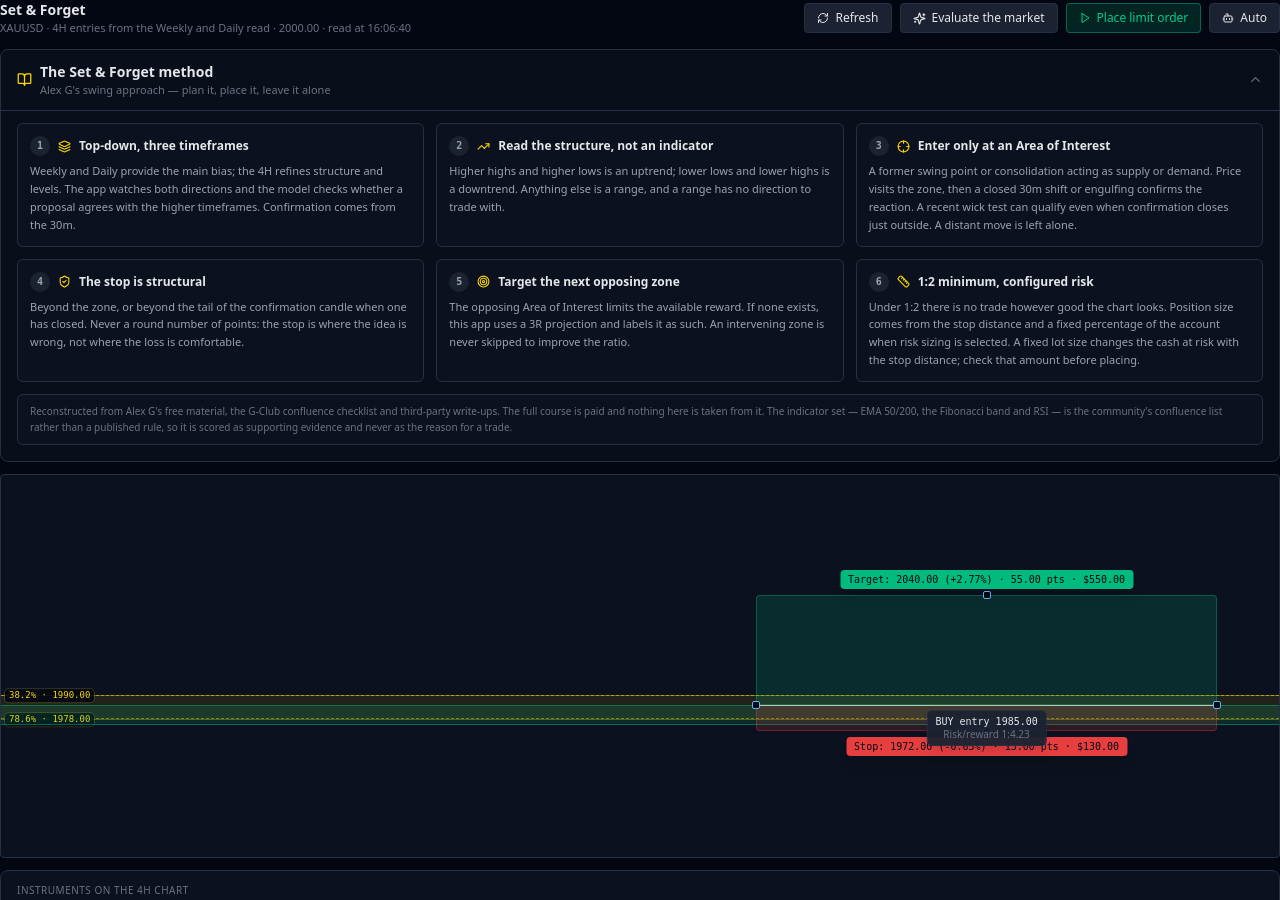
the evaluation › shows the model's verdict and reasoning once it has run
Click the button "Evaluate the market" at (978, 18), box [900,3,1058,33]
(page scrolled)
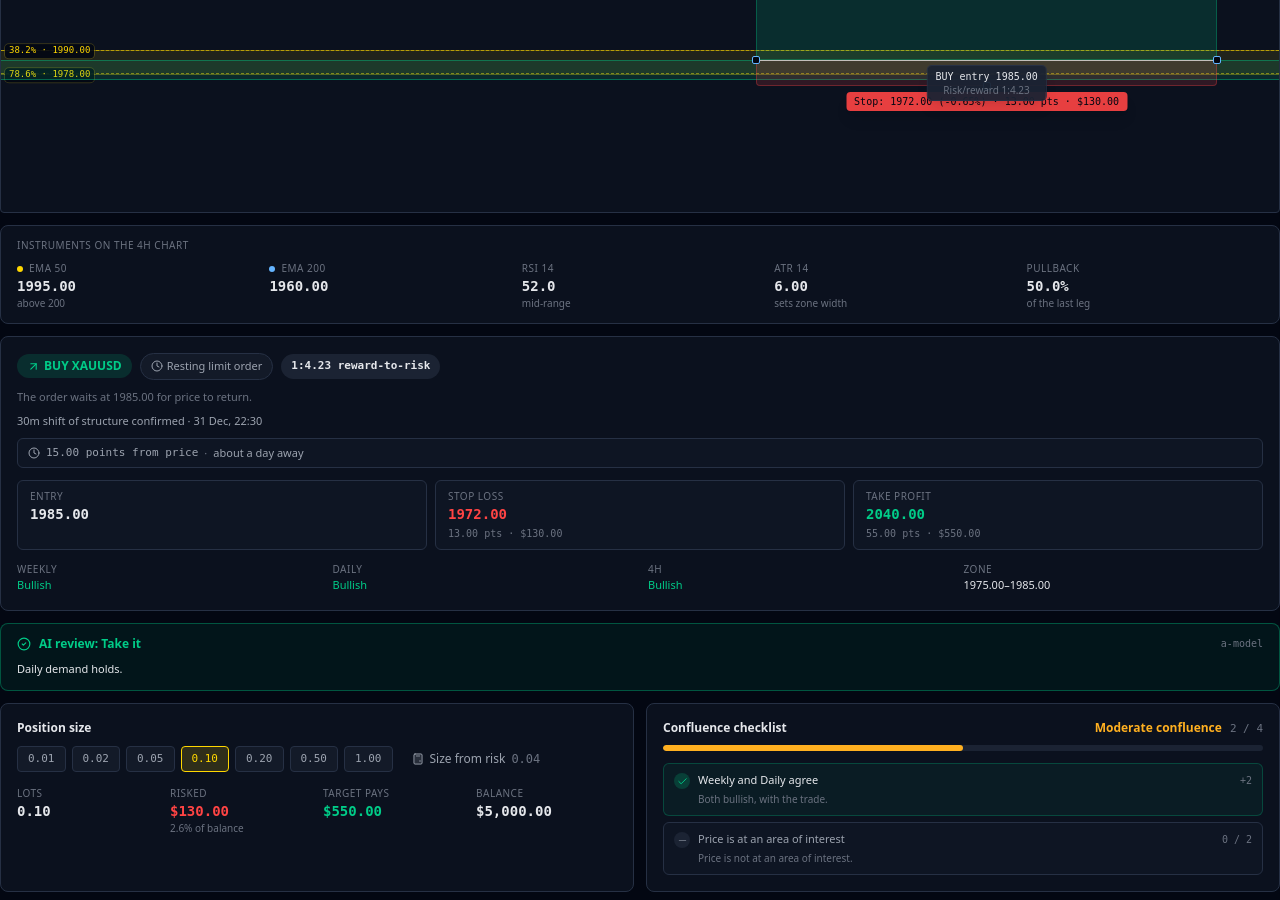
Check: the heading "AI review: Take it" is shown, box [17,636,141,652]
Check: the text "Daily demand holds." is shown, box [17,661,122,676]
